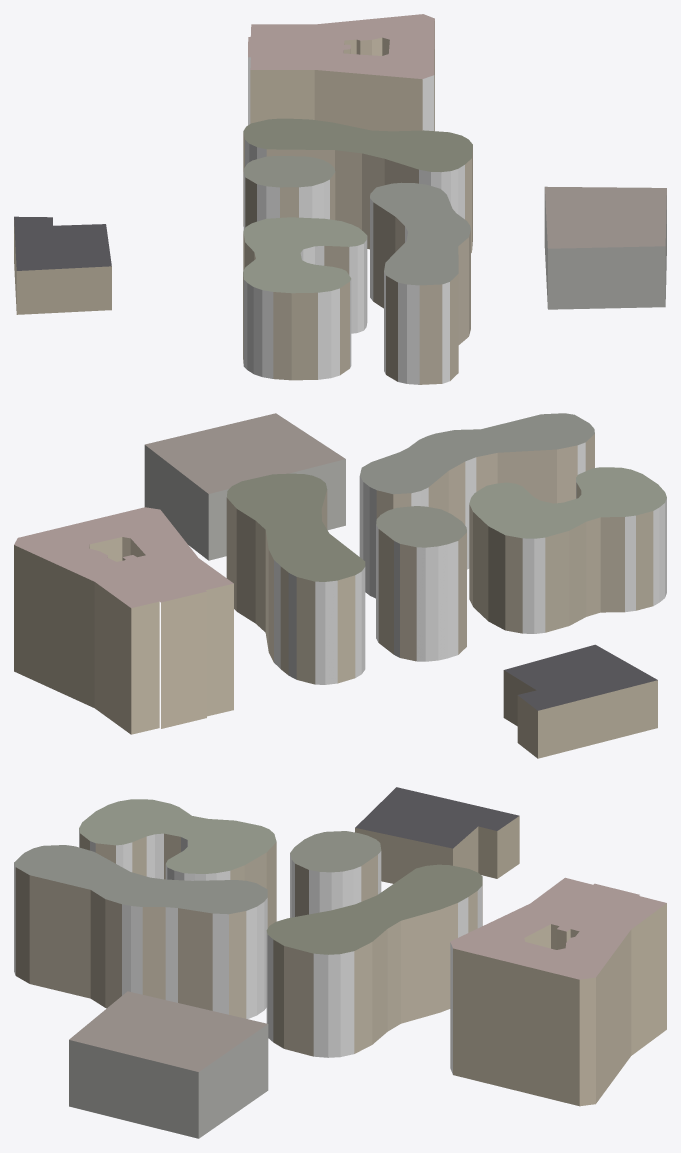
3 views of the same model, one above another, from view 1: azimuth 30°, elevation 25°; view 2: azimuth 150°, elevation 25°; view 3: azimuth 270°, elevation 25° (orthographic). The views are drawn at different scales.
Parts seen in each view (by area): view 1: tuile; view 2: tuile; view 3: tuile.
Boxes of the visible parts, bbox=[...] form: tuile: bbox=[14, 14, 666, 384]; tuile: bbox=[14, 413, 666, 758]; tuile: bbox=[14, 787, 666, 1138].
Size of the model in its own units: 126 by 25.25 by 117.
